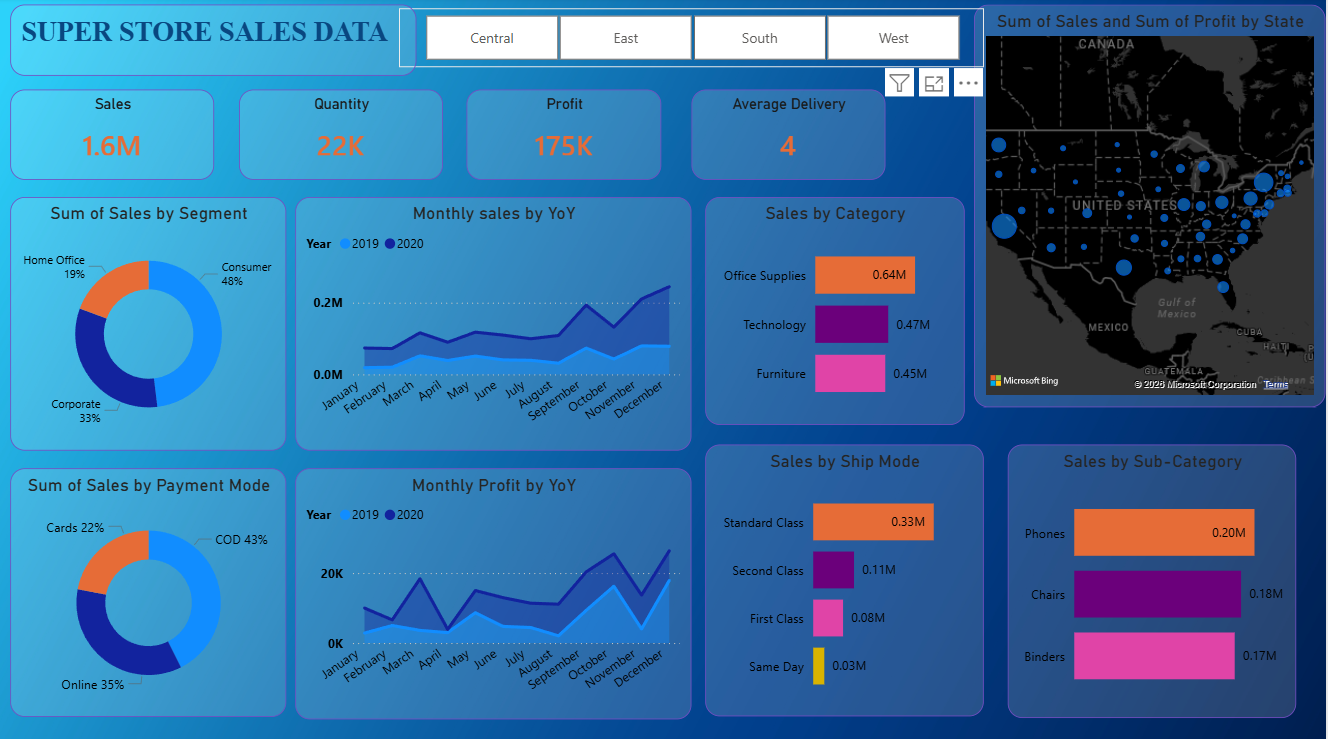

This screenshot's page, from the dashboard's own definition file:
{"tool":"powerbi","page":{"name":"Analysis Dashboard","canvas":[1280,720],"ordinal":0},"visuals":[{"type":"clusteredBarChart","title":"Sales by Category","fields":{"Y":["Sum(SuperStore_Sales_Dataset.Sales)"],"Category":["SuperStore_Sales_Dataset.Category"]},"box":[681.2,192.5,250,220],"z":0},{"type":"clusteredBarChart","title":"Sales by Sub-Category","fields":{"Y":["Sum(SuperStore_Sales_Dataset.Sales)"],"Category":["SuperStore_Sales_Dataset.Sub-Category"]},"box":[973.8,432.5,278.8,263.8],"z":1000},{"type":"clusteredBarChart","title":"Sales by Ship Mode","fields":{"Y":["Sum(SuperStore_Sales_Dataset.Sales)"],"Category":["SuperStore_Sales_Dataset.Ship Mode"]},"box":[681.2,432.5,268.8,262.5],"z":2000},{"type":"stackedAreaChart","title":"Monthly sales by YoY","fields":{"Y":["Sum(SuperStore_Sales_Dataset.Sales)"],"Category":["SuperStore_Sales_Dataset.Order Date.Variation.Date Hierarchy.Month","SuperStore_Sales_Dataset.Order Date.Variation.Date Hierarchy.Day"],"Series":["SuperStore_Sales_Dataset.Order Date.Variation.Date Hierarchy.Year"]},"box":[286.2,192.5,382.5,245],"z":3000},{"type":"stackedAreaChart","title":"Monthly Profit by YoY","fields":{"Category":["SuperStore_Sales_Dataset.Order Date.Variation.Date Hierarchy.Month","SuperStore_Sales_Dataset.Order Date.Variation.Date Hierarchy.Day"],"Series":["SuperStore_Sales_Dataset.Order Date.Variation.Date Hierarchy.Year"],"Y":["Sum(SuperStore_Sales_Dataset.Profit)"]},"box":[286.2,455,382.5,242.5],"z":4000},{"type":"map","fields":{"Category":["SuperStore_Sales_Dataset.State"],"Size":["Sum(SuperStore_Sales_Dataset.Sales)"]},"box":[940.5,7.2,339.5,388.5],"z":5000},{"type":"donutChart","fields":{"Category":["SuperStore_Sales_Dataset.Segment"],"Y":["Sum(SuperStore_Sales_Dataset.Sales)"]},"box":[10.9,193,266.6,244.9],"z":6000},{"type":"donutChart","fields":{"Y":["Sum(SuperStore_Sales_Dataset.Sales)"],"Category":["SuperStore_Sales_Dataset.Payment Mode"]},"box":[10.9,454.8,266.6,240.1],"z":7000},{"type":"slicer","fields":{"Values":["SuperStore_Sales_Dataset.Region"]},"box":[385.6,10.9,565.1,56.7],"z":8000},{"type":"textbox","box":[10.9,7.2,392.1,68.8],"z":9000},{"type":"cardVisual","title":"Sales","fields":{"Data":["Sum(SuperStore_Sales_Dataset.Sales)"]},"box":[10.9,89.3,196.6,86.9],"z":10000},{"type":"cardVisual","title":"Quantity","fields":{"Data":["Sum(SuperStore_Sales_Dataset.Quantity)"]},"box":[231.6,89.3,196.6,86.9],"z":11000},{"type":"cardVisual","title":"Profit","fields":{"Data":["Sum(SuperStore_Sales_Dataset.Profit)"]},"box":[451.2,89.3,188.2,86.9],"z":12000},{"type":"cardVisual","title":"Average Delivery","fields":{"Data":["Avg(SuperStore_Sales_Dataset.AvgDelivery)"]},"box":[668.4,89.3,187,86.9],"z":13000}]}

Visuals, with their boxes in screenshot pixels (x1, y1, x2, y2), scaled from the page's 1280x720 canvas onto the 1328x739 screenshot:
"Sales by Category" clusteredBarChart: [707,198,966,423]
"Sales by Sub-Category" clusteredBarChart: [1010,444,1300,715]
"Sales by Ship Mode" clusteredBarChart: [707,444,986,713]
"Monthly sales by YoY" stackedAreaChart: [297,198,694,449]
"Monthly Profit by YoY" stackedAreaChart: [297,467,694,716]
map - SuperStore_Sales_Dataset.State x Sum(SuperStore_Sales_Dataset.Sales): [976,7,1327,406]
donutChart - SuperStore_Sales_Dataset.Segment x Sum(SuperStore_Sales_Dataset.Sales): [11,198,288,449]
donutChart - Sum(SuperStore_Sales_Dataset.Sales) x SuperStore_Sales_Dataset.Payment Mode: [11,467,288,713]
slicer - SuperStore_Sales_Dataset.Region: [400,11,986,69]
textbox: [11,7,418,78]
"Sales" cardVisual: [11,92,215,181]
"Quantity" cardVisual: [240,92,444,181]
"Profit" cardVisual: [468,92,663,181]
"Average Delivery" cardVisual: [693,92,887,181]
